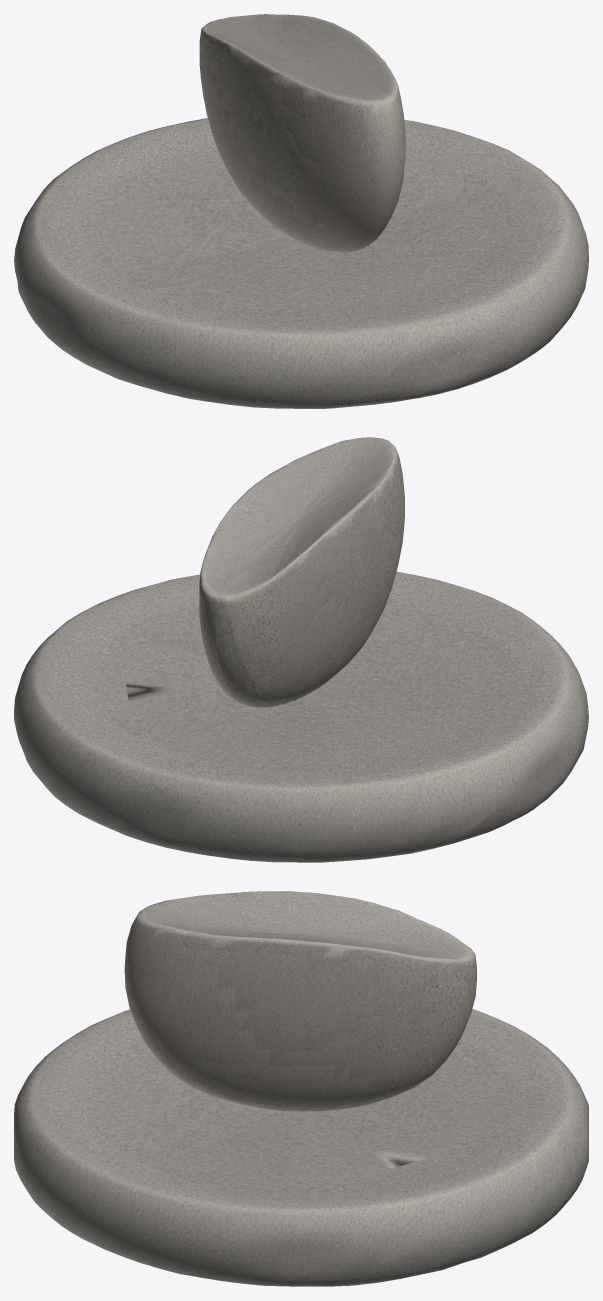
Rendered from mdl_ra4_batan.fbx.
3 renders of one model, top to bottom at view 1: azimuth 30°, elevation 25°; view 2: azimuth 150°, elevation 25°; view 3: azimuth 270°, elevation 25°, orthographic.
Visible parts, largest first — view 1: SM_batan, SM_batan_Moledor; view 2: SM_batan, SM_batan_Moledor; view 3: SM_batan, SM_batan_Moledor.
Part boxes in pixels (x1,y1,x2,y2): SM_batan: (14, 118, 588, 408); SM_batan_Moledor: (199, 14, 405, 252); SM_batan: (14, 571, 588, 862); SM_batan_Moledor: (199, 437, 404, 707); SM_batan: (14, 1009, 588, 1286); SM_batan_Moledor: (124, 891, 476, 1111).
Size of the model in its own units: 0.4451 by 0.22 by 0.4451.
